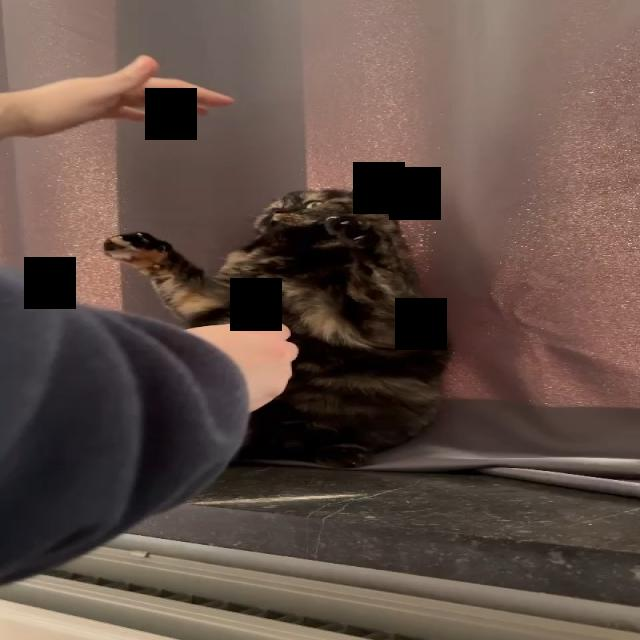authorized: (101, 174, 454, 468)
